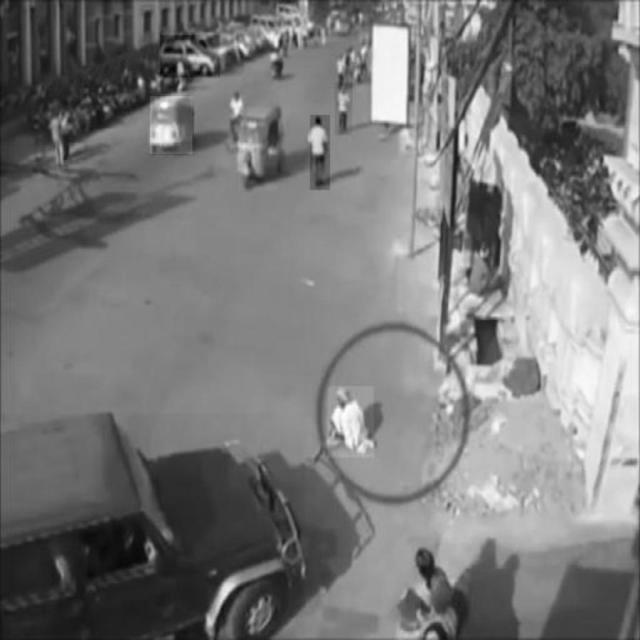person: (328, 386, 374, 457), (310, 116, 330, 190), (335, 83, 352, 135)
vehicle: (2, 414, 306, 636), (239, 107, 277, 190), (160, 34, 220, 78), (151, 97, 193, 154)
